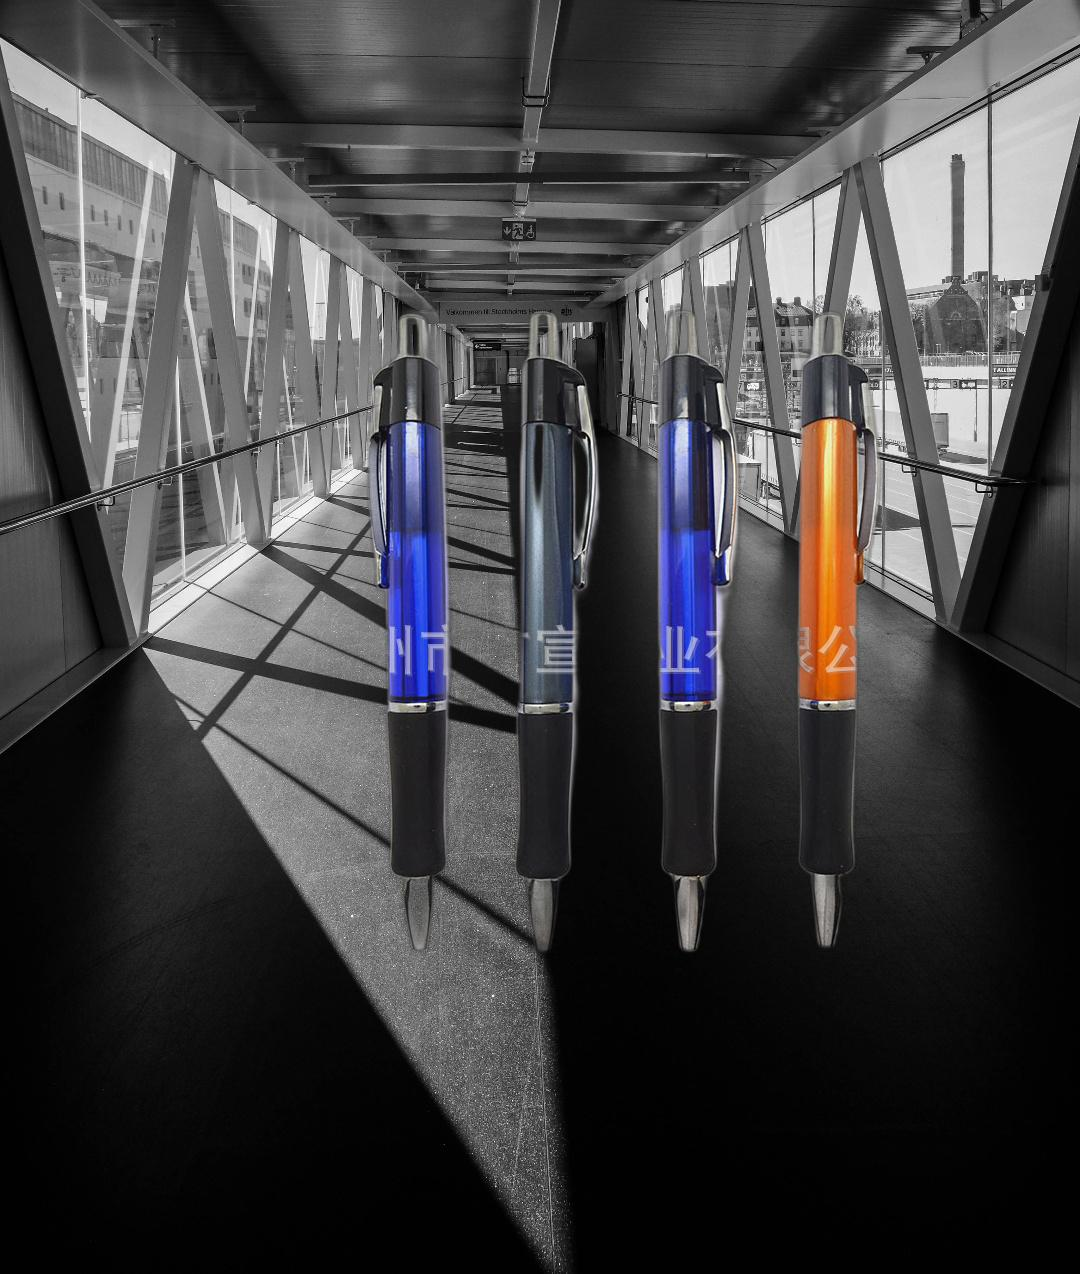penholder: (309, 304, 993, 1017)
